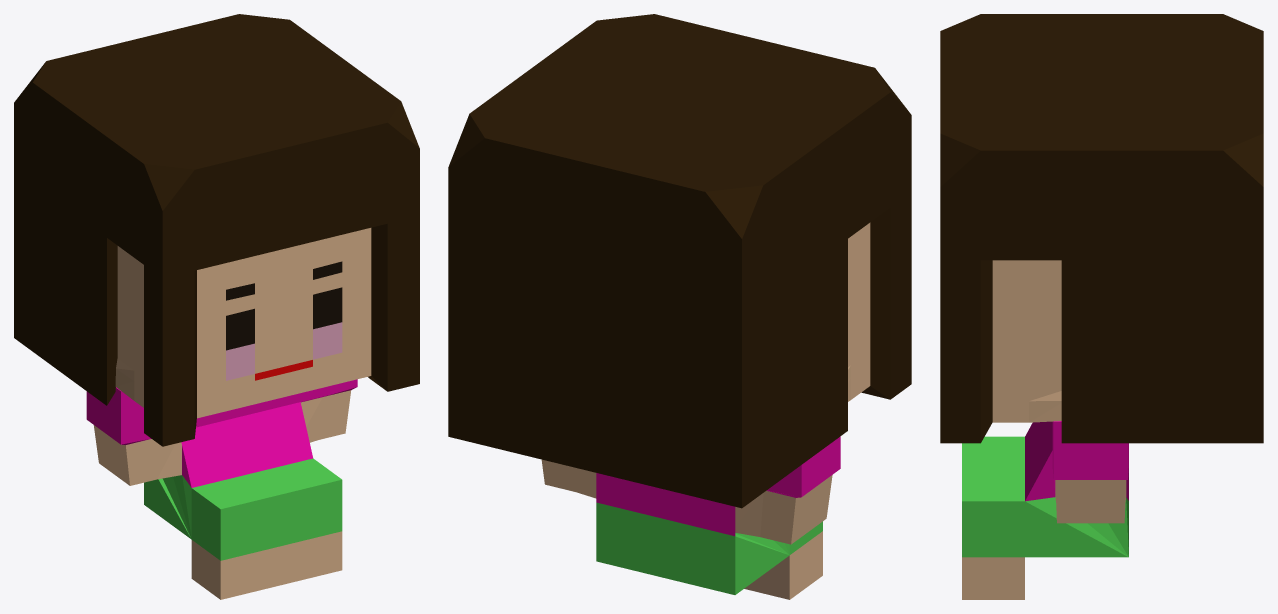
Rendered from 090918_character_material_modified.fbx.
3 renders of one model, left to right at view 1: azimuth 30°, elevation 25°; view 2: azimuth 150°, elevation 25°; view 3: azimuth 270°, elevation 25°, orthographic. The views are drawn at different scales.
Parts seen in each view (by area): view 1: character_sitting_head3; view 2: character_sitting_head3; view 3: character_sitting_head3.
Part boxes in pixels (bbox=[...]): character_sitting_head3: bbox=[14, 14, 419, 599]; character_sitting_head3: bbox=[448, 14, 911, 599]; character_sitting_head3: bbox=[940, 14, 1263, 599].
Size of the model in its own units: 1.11 by 1.83 by 1.11.
